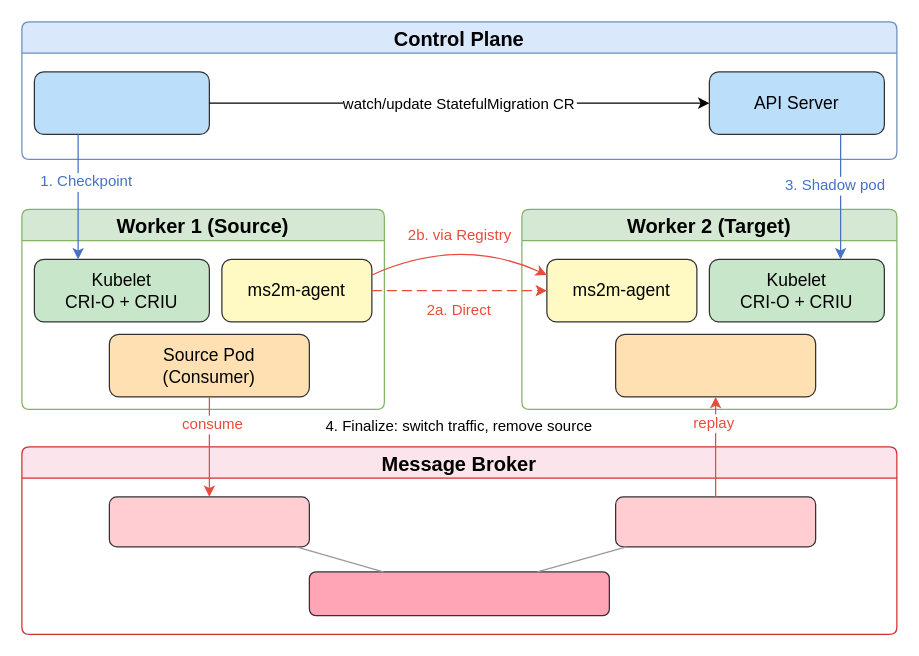
The diagram is 919 pixels wide and 656 high, and some of its shapes have lost their labels. Each missing label, with the centre of its shape:
MS2M Operator (Reconciler): point 121,102
Primary Queue: point 208,521
RabbitMQ: point 458,593
Replay Queue: point 715,521
Shadow Pod (Restored): point 715,365
